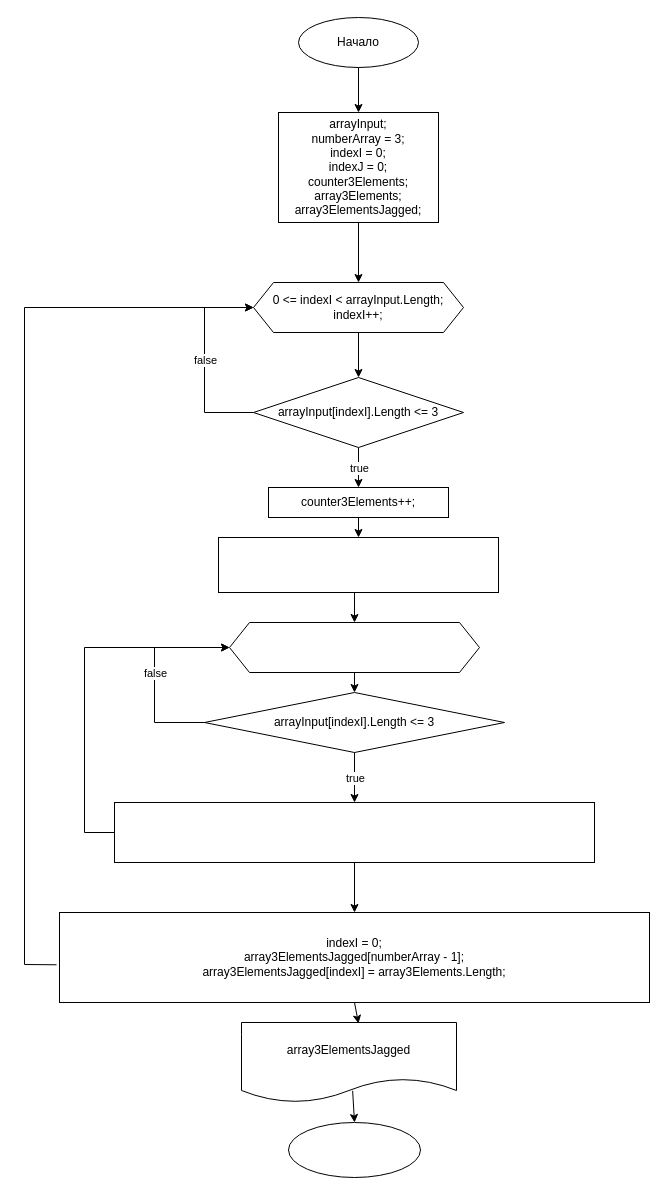
Some shapes in this 667 by 1195 pixel diagram are drawn without their labels. Here are the shapes that lost their labels. From the top down, the centre of each, then its label:
(358,564): array3Elements[ counter3Elements - 1 ];
(354,647): 0 <= intdexI < arrayInput.Length indexI++;
(354,832): array3Elements[indexJ] = arrayInput[indexI]; indexJ++;
(354,1150): Конец
